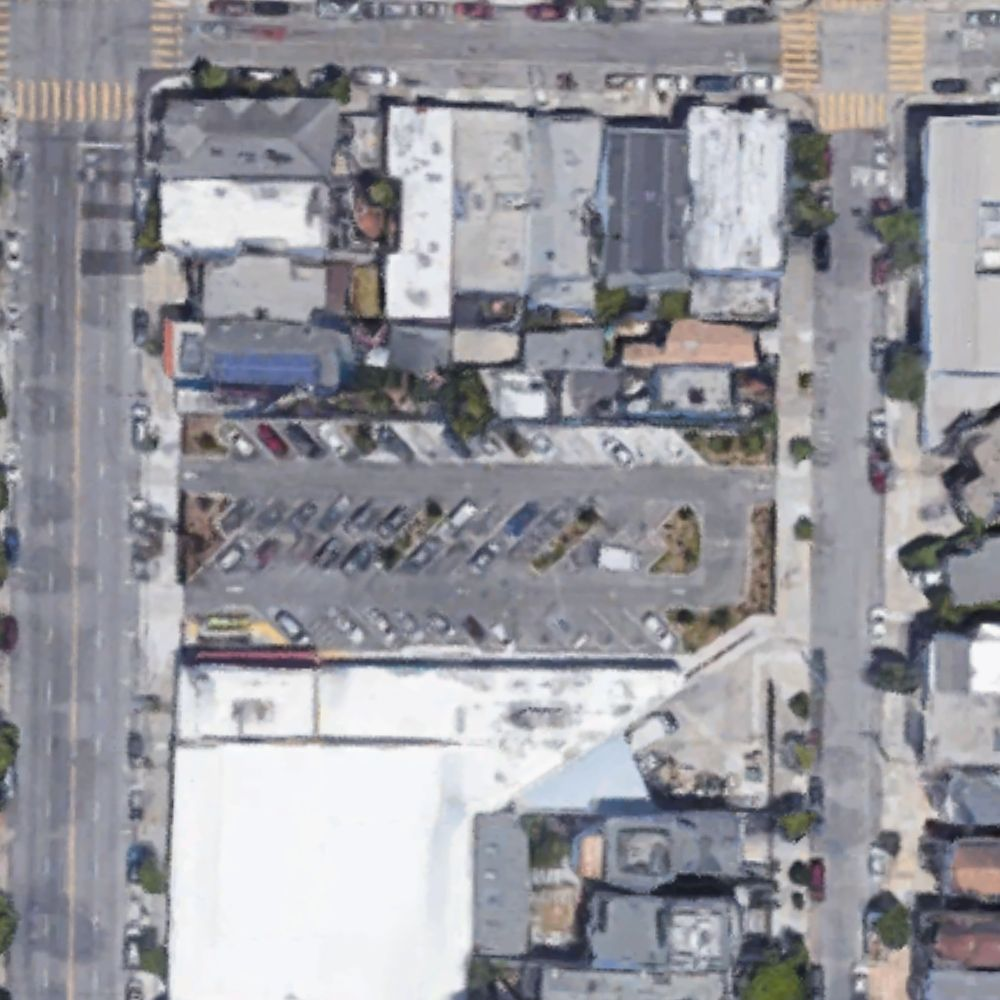parking: (181, 415, 770, 660)
